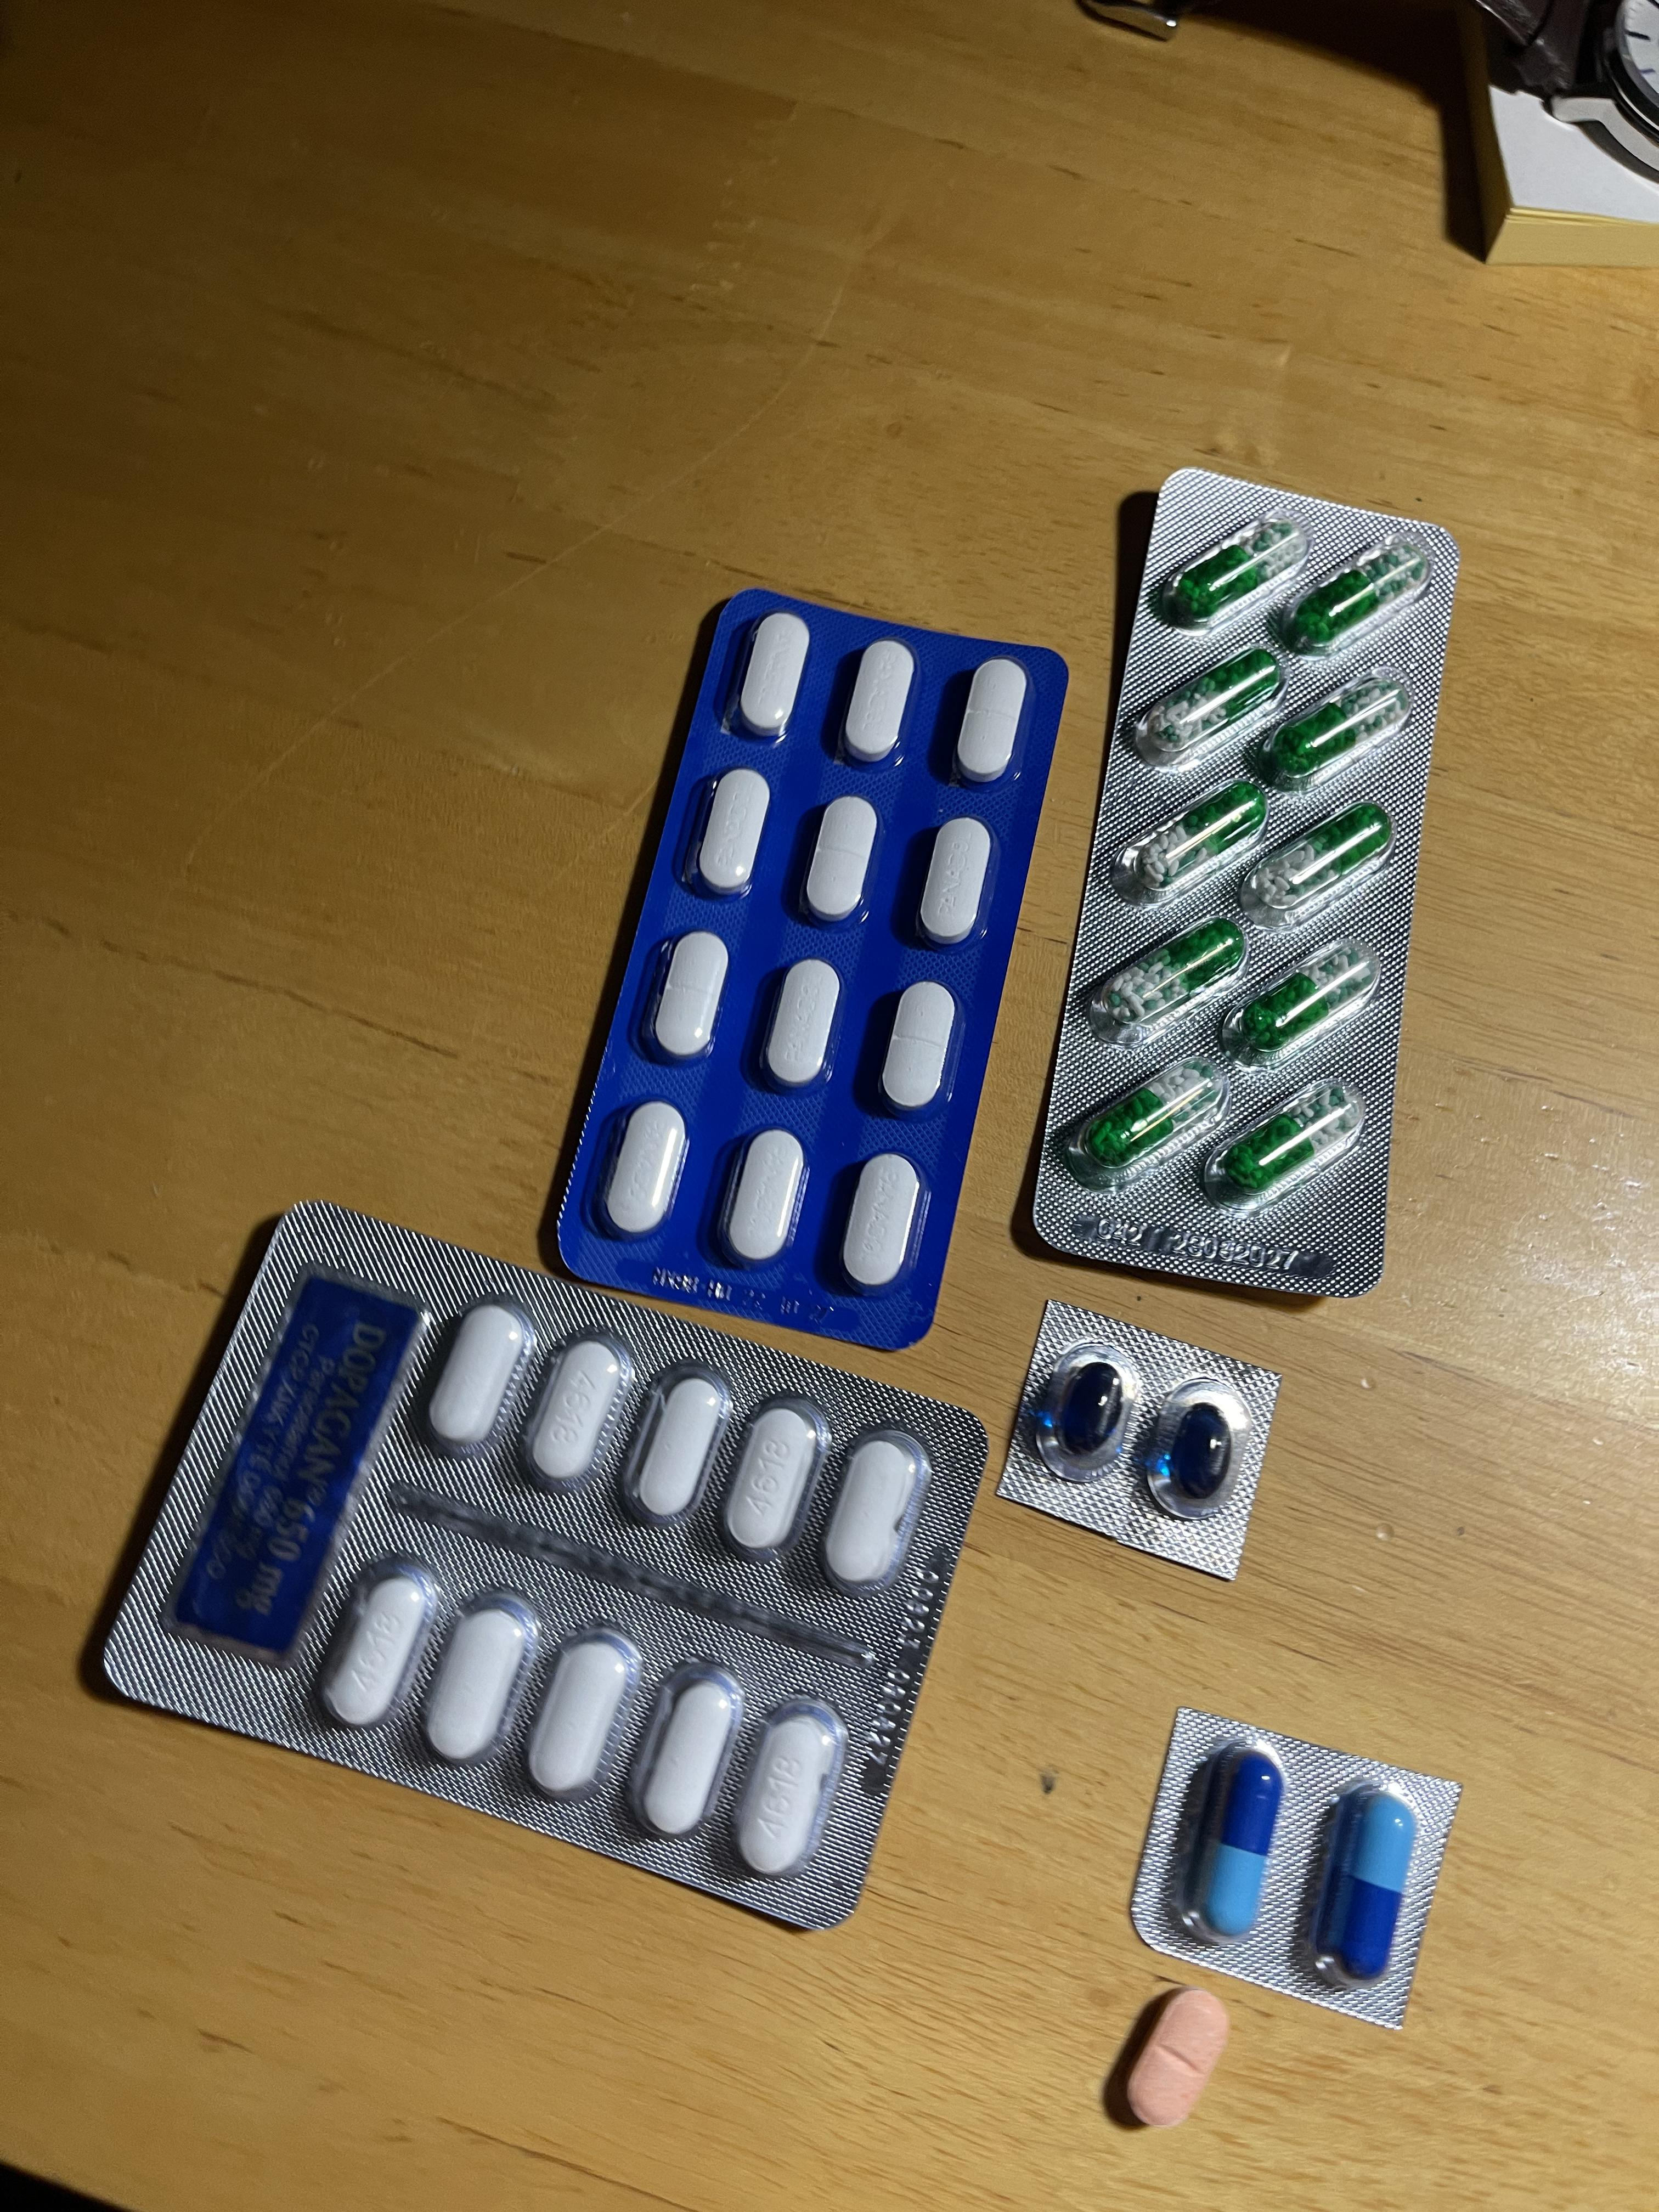Lincomyxin_500mg: (1060, 1362, 1124, 1454), (1171, 1402, 1232, 1498)
Loratadine_10mg: (1121, 1984, 1227, 2130)
Paracetamol_350mg: (713, 1127, 807, 1266), (592, 1101, 687, 1240), (842, 1153, 925, 1292), (760, 958, 843, 1092), (647, 932, 730, 1064), (880, 979, 958, 1116), (690, 770, 770, 899), (730, 611, 810, 740), (800, 794, 878, 925), (917, 817, 995, 948), (842, 643, 918, 766), (955, 657, 1030, 782)
Paracetamol_500mg: (627, 1662, 751, 1844), (315, 1559, 441, 1733), (728, 1698, 849, 1879), (624, 1360, 746, 1538), (523, 1627, 645, 1801), (422, 1594, 542, 1766), (523, 1327, 645, 1496), (714, 1392, 831, 1566), (817, 1423, 934, 1597), (423, 1303, 535, 1447)
Paracetamol_650mg: (1206, 1075, 1371, 1214), (1070, 1050, 1230, 1184), (1241, 796, 1403, 928), (1087, 906, 1243, 1038), (1279, 533, 1439, 660), (1117, 780, 1274, 909), (1154, 512, 1314, 636), (1131, 648, 1286, 768), (1230, 941, 1377, 1057), (1269, 688, 1403, 782)
pill: (1310, 1784, 1420, 1991), (1197, 1750, 1283, 1939)
